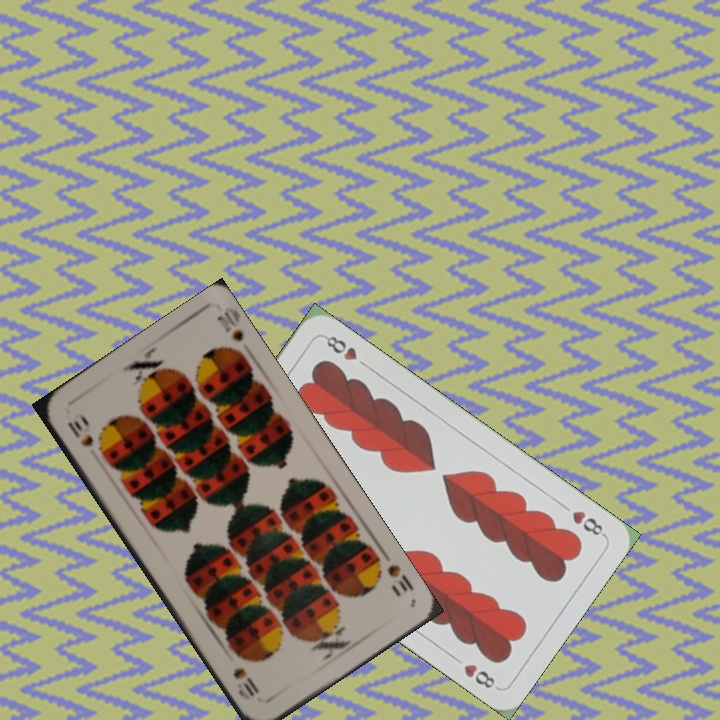H8: (568, 506, 609, 540)
S10: (383, 560, 417, 594), (63, 416, 96, 450)
